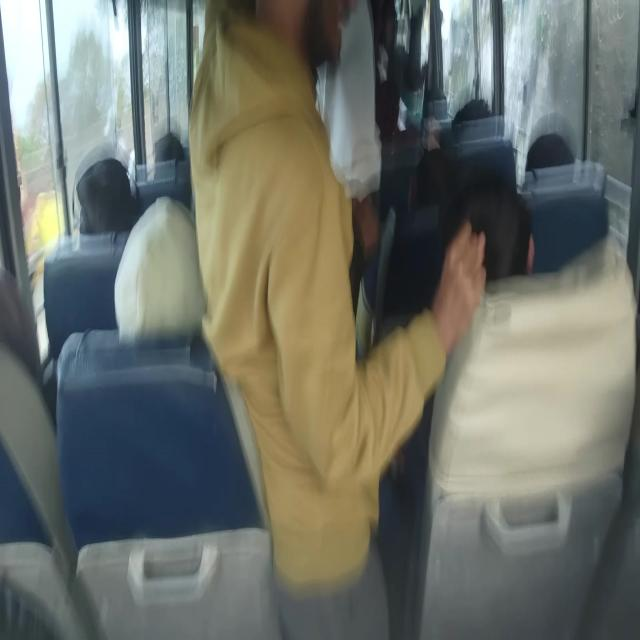person: (222, 0, 371, 575), (299, 0, 382, 206), (454, 188, 526, 294), (116, 205, 194, 300), (0, 276, 35, 444), (67, 158, 126, 229), (522, 130, 584, 177), (409, 160, 456, 222), (368, 0, 403, 76), (453, 100, 502, 129), (150, 123, 177, 171)
